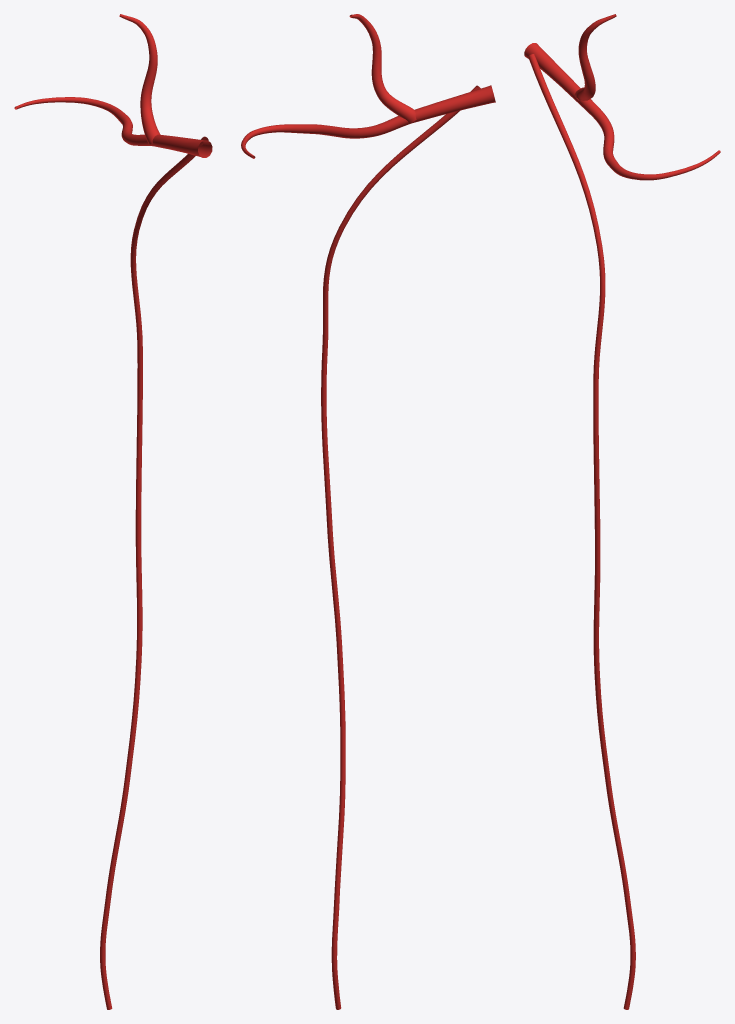
File: circulatorio-lateral-circumflex-femoral-artery-l.glb
3 renders of one model, left to right at view 1: azimuth 90°, elevation 25°; view 2: azimuth 150°, elevation 25°; view 3: azimuth 270°, elevation 25°, orthographic.
Parts seen in each view (by area): view 1: Descending branch of lateral circumflex femoral artery.l, Lateral circumflex femoral artery.l; view 2: Descending branch of lateral circumflex femoral artery.l, Lateral circumflex femoral artery.l; view 3: Descending branch of lateral circumflex femoral artery.l, Lateral circumflex femoral artery.l.
Part boxes in pixels (x1,y1,x2,y2): Descending branch of lateral circumflex femoral artery.l: (100,136,208,1009); Lateral circumflex femoral artery.l: (14,14,212,157); Descending branch of lateral circumflex femoral artery.l: (321,85,480,1009); Lateral circumflex femoral artery.l: (241,14,495,158); Descending branch of lateral circumflex femoral artery.l: (528,54,635,1009); Lateral circumflex femoral artery.l: (524,14,720,180).
Bounding box in the file's own units: 0.0712 × 0.361 × 0.0649.
